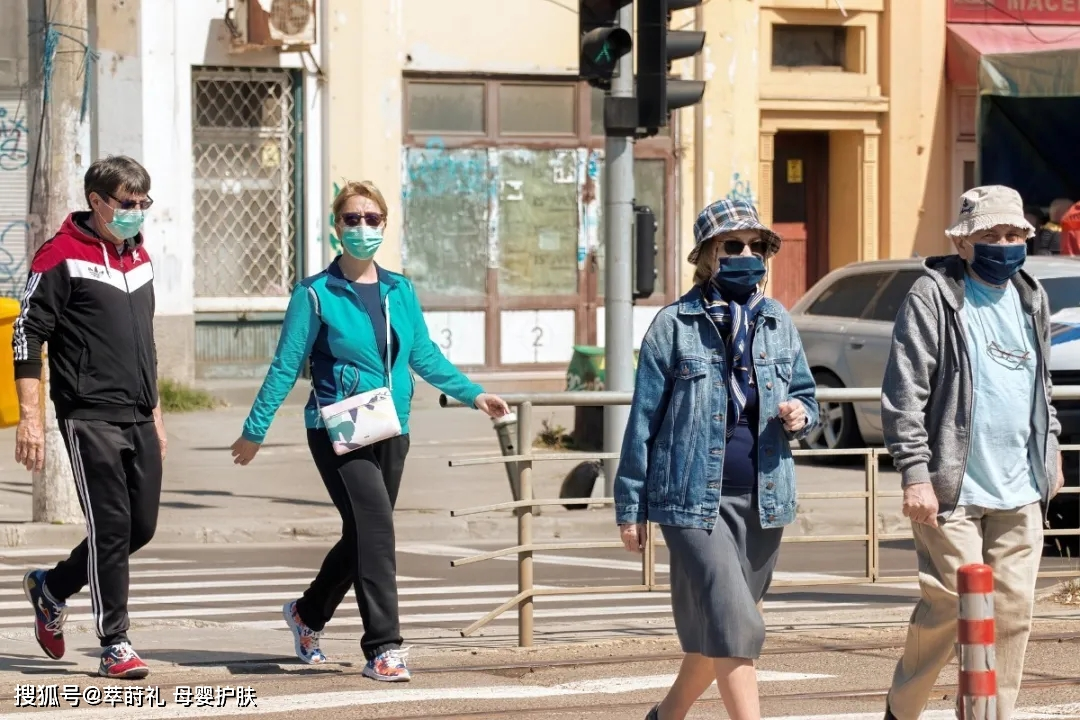mask: (87, 169, 149, 252), (959, 224, 1037, 287), (328, 194, 389, 264), (713, 233, 772, 301)
